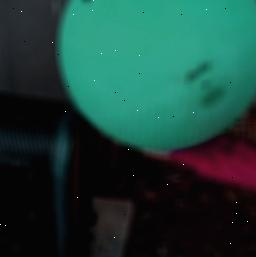algae: (58, 0, 256, 157)
